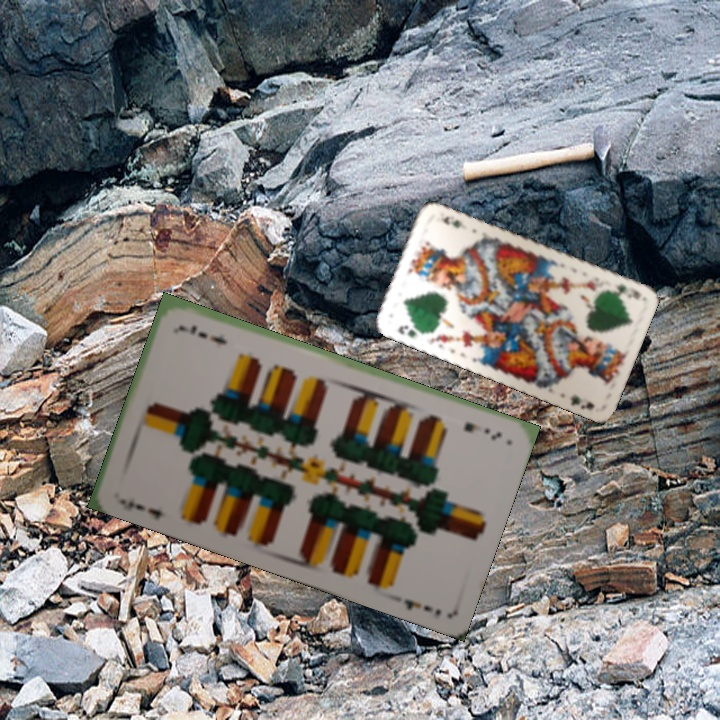E7: (115, 495, 165, 522), (460, 418, 505, 444)
GK: (604, 280, 643, 302), (393, 321, 426, 340)
